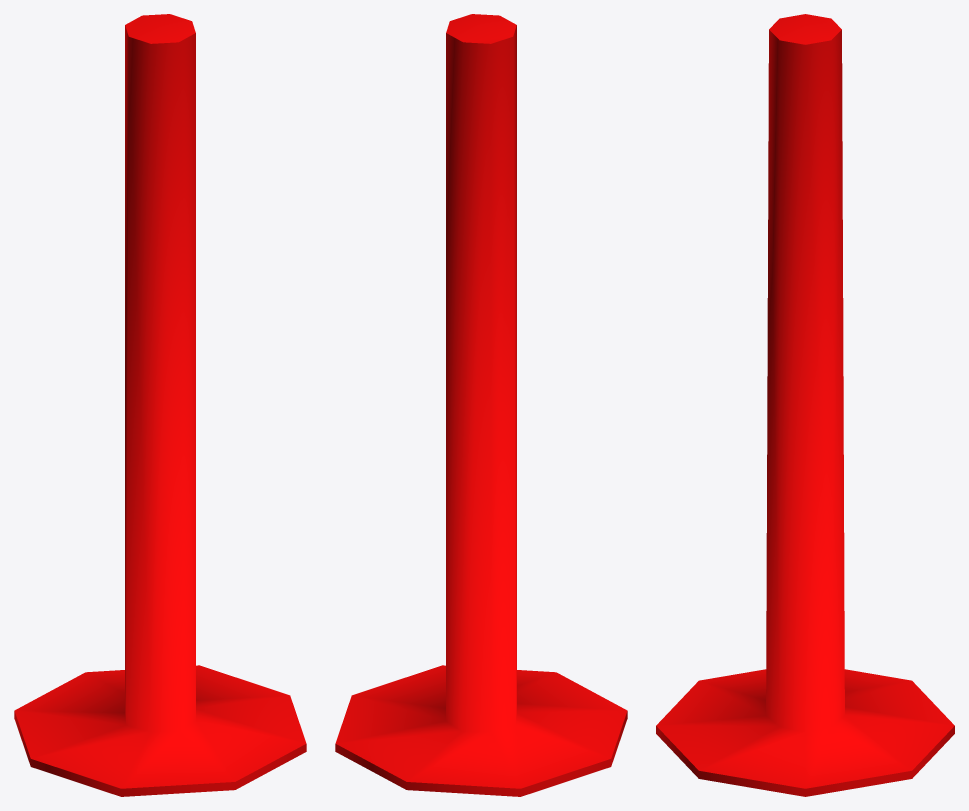
File: Prop_TrafficSafetyBollardPortable_01.FBX
3 renders of one model, left to right at view 1: azimuth 30°, elevation 25°; view 2: azimuth 150°, elevation 25°; view 3: azimuth 270°, elevation 25°, orthographic.
Parts seen in each view (by area): view 1: Prop_TrafficSafetyBollardPortable_01; view 2: Prop_TrafficSafetyBollardPortable_01; view 3: Prop_TrafficSafetyBollardPortable_01.
Part boxes in pixels (bbox=[...]): Prop_TrafficSafetyBollardPortable_01: bbox=[14, 14, 306, 796]; Prop_TrafficSafetyBollardPortable_01: bbox=[335, 14, 627, 796]; Prop_TrafficSafetyBollardPortable_01: bbox=[656, 14, 954, 796].
Size of what is drawn, in the model's own units: 39.06 by 102 by 39.06.
